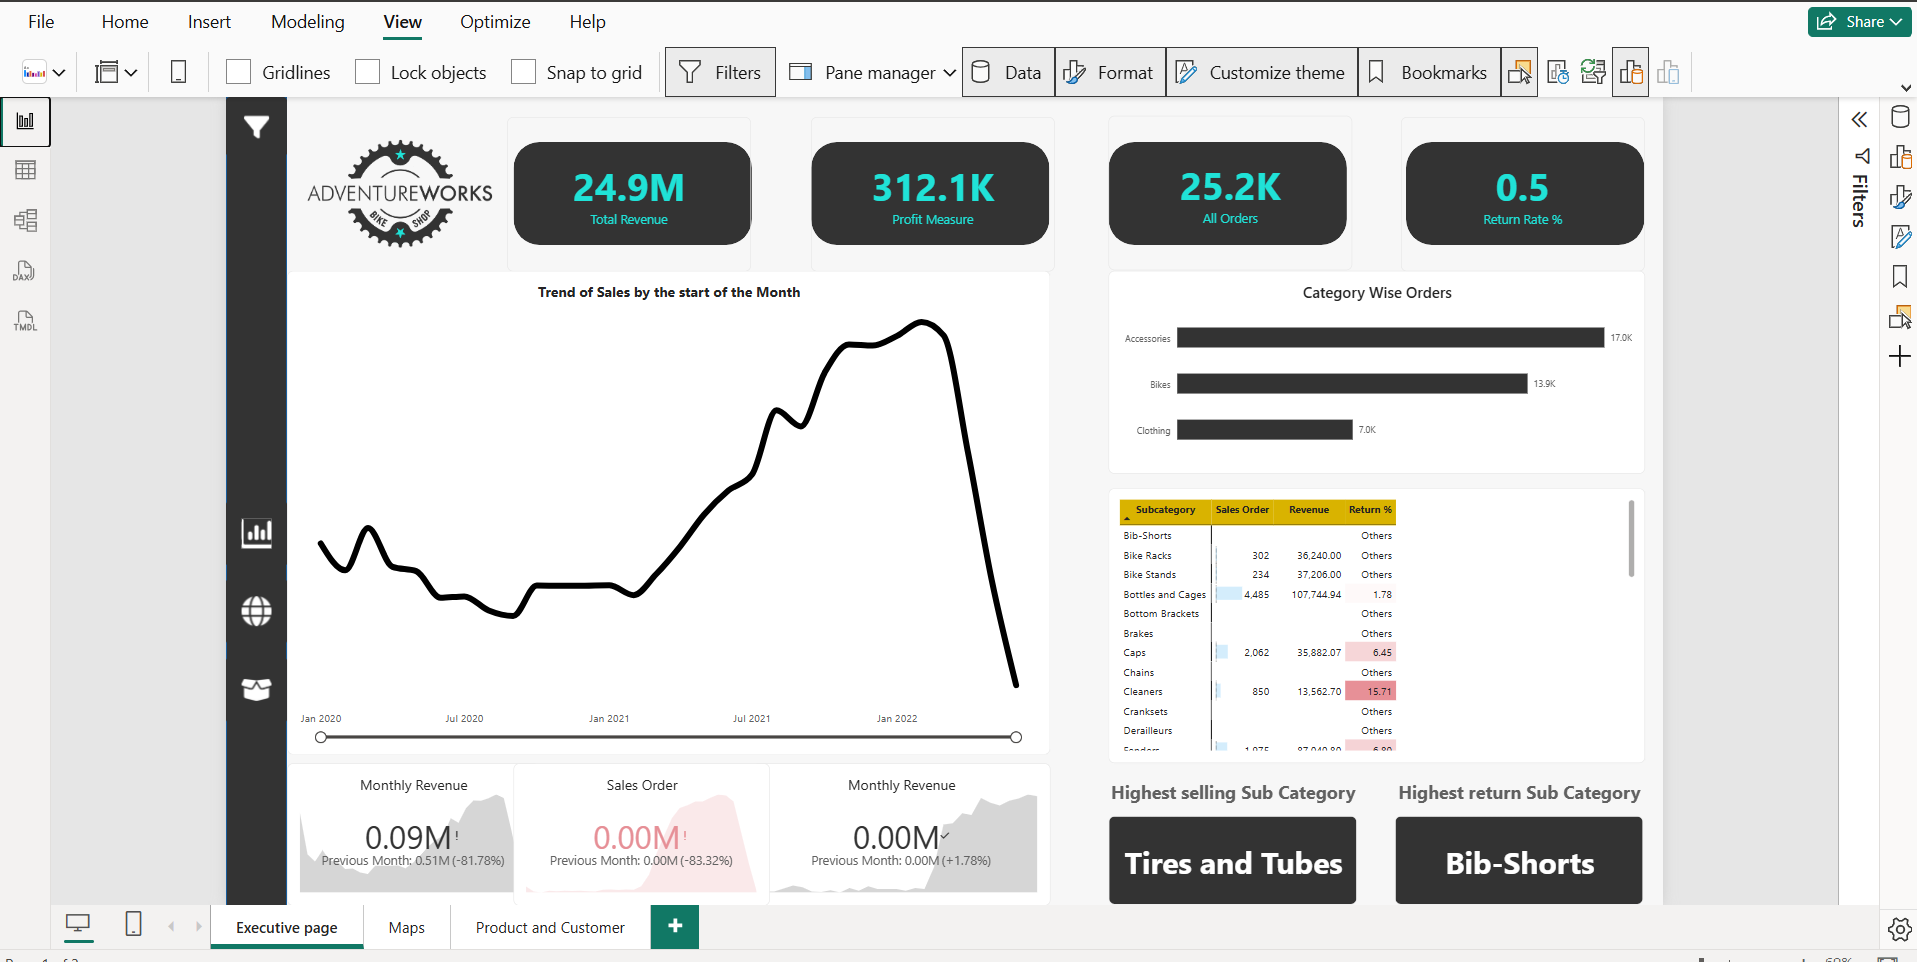

What the dashboard file says about the page in this screenshot:
{"tool":"powerbi","page":{"name":"Executive page","canvas":[1920,1080],"ordinal":0},"visuals":[{"type":"shape","title":"Background","box":[0,0,81.4,1080.4],"z":0},{"type":"shape","box":[383.6,59.7,318.5,137.5],"z":0,"group":"g1"},{"type":"image","title":"Logo","box":[81.4,1.8,302.2,255.2],"z":1000},{"type":"shape","box":[781.1,59.7,318.5,137.5],"z":1000,"group":"g1"},{"type":"group","id":"g1","title":"KPI Background","box":[383.6,59.7,1511.1,137.5],"z":2000},{"type":"shape","box":[1178.6,59.7,318.5,137.5],"z":2000,"group":"g1"},{"type":"card","fields":{"Values":["Measure Table.Total Revenue (Iterator)"]},"box":[376.4,27.1,325.7,206.3],"z":3000},{"type":"shape","box":[1576.2,59.7,318.5,137.5],"z":3000,"group":"g1"},{"type":"card","fields":{"Values":["Measure Table.Profit Measure"]},"box":[781.8,27.1,325.7,206.3],"z":4000},{"type":"card","fields":{"Values":["Measure Table.All Orders"]},"box":[1178.1,25.3,325.7,206.3],"z":5000},{"type":"card","fields":{"Values":["Measure Table.Return Rate %"]},"box":[1569,27.1,325.7,206.3],"z":6000},{"type":"lineChart","title":"Trend of Sales by the start of the Month","fields":{"Category":["Calendar Lookup.Start of Month.Variation.Date Hierarchy.Year","Calendar Lookup.Start of Month.Variation.Date Hierarchy.Quarter","Calendar Lookup.Start of Month.Variation.Date Hierarchy.Month","Calendar Lookup.Start of Month.Variation.Date Hierarchy.Day"],"Y":["Measure Table.Total Revnue"]},"box":[81.4,231.6,1018.8,646],"z":7000},{"type":"kpi","title":"Monthly Revenue","fields":{"Goal":["Measure Table.Previous Period Sales"],"Indicator":["Measure Table.Total Revenue (Iterator)"],"TrendLine":["Calendar Lookup.Start of Month"]},"box":[81.4,890.4,336.6,190],"z":8000},{"type":"kpi","title":"Monthly Revenue","fields":{"Goal":["Measure Table.Previous Preiod Return"],"Indicator":["Measure Table.Total Return Transaction"],"TrendLine":["Calendar Lookup.Start of Month"]},"box":[702.1,890.4,398.1,190],"z":9000},{"type":"kpi","title":"Sales Order","fields":{"Goal":["Measure Table.Previous Period Orders"],"Indicator":["Measure Table.Distinct Sales Order"],"TrendLine":["Calendar Lookup.Start of Month"]},"box":[383.6,890.4,342,190],"z":10000},{"type":"clusteredBarChart","title":"Category Wise Orders","fields":{"Category":["Product Categories Lookup.CategoryName"],"Y":["Measure Table.Distinct Sales Order"]},"box":[1178.1,231.6,716.6,271.4],"z":11000},{"type":"pivotTable","fields":{"Rows":["Product Subcategories Lookup.SubcategoryName"],"Values":["Measure Table.Distinct Sales Order","Measure Table.Total Revenue (Iterator)","Measure Table.Return Rate %"]},"box":[1178.1,523,716.6,367.4],"z":12000},{"type":"cardVisual","fields":{"Data":["Min(Product Subcategories Lookup.SubcategoryName)"]},"box":[1178.1,960.9,333,119.4],"z":13000},{"type":"textbox","box":[1178.1,912.1,333,34.4],"z":14000},{"type":"cardVisual","fields":{"Data":["Min(Product Subcategories Lookup.SubcategoryName)"]},"box":[1561.7,960.9,333,119.4],"z":15000},{"type":"textbox","box":[1561.7,912.1,333,34.4],"z":16000},{"type":"actionButton","box":[0,0,81.4,79.6],"z":17000},{"type":"actionButton","box":[0,539.3,81.4,88],"z":17001},{"type":"actionButton","box":[0,643.3,81.4,88],"z":17002},{"type":"actionButton","box":[0,747.4,81.4,88],"z":17003}]}

Visuals, with their boxes on the page's 1920x1080 design canvas (x1, y1, x2, y2). These are canvas units, not pixel positions in the 1917x962 screenshot, which may show the page scaled, cropped or inside an application window:
"Background" shape: (0,0,81,1080)
shape: (384,60,702,197)
"Logo" image: (81,2,384,257)
shape: (781,60,1100,197)
"KPI Background" group: (384,60,1895,197)
shape: (1179,60,1497,197)
card - Measure Table.Total Revenue (Iterator): (376,27,702,233)
shape: (1576,60,1895,197)
card - Measure Table.Profit Measure: (782,27,1108,233)
card - Measure Table.All Orders: (1178,25,1504,232)
card - Measure Table.Return Rate %: (1569,27,1895,233)
"Trend of Sales by the start of the Month" lineChart: (81,232,1100,878)
"Monthly Revenue" kpi: (81,890,418,1080)
"Monthly Revenue" kpi: (702,890,1100,1080)
"Sales Order" kpi: (384,890,726,1080)
"Category Wise Orders" clusteredBarChart: (1178,232,1895,503)
pivotTable - Product Subcategories Lookup.SubcategoryName x Measure Table.Distinct Sales Order: (1178,523,1895,890)
cardVisual - Min(Product Subcategories Lookup.SubcategoryName): (1178,961,1511,1080)
textbox: (1178,912,1511,946)
cardVisual - Min(Product Subcategories Lookup.SubcategoryName): (1562,961,1895,1080)
textbox: (1562,912,1895,946)
actionButton: (0,0,81,80)
actionButton: (0,539,81,627)
actionButton: (0,643,81,731)
actionButton: (0,747,81,835)
